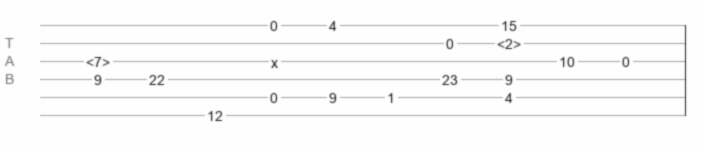0: (270, 18, 278, 28), (270, 90, 278, 100), (446, 36, 454, 46), (622, 54, 630, 64)
1: (387, 90, 395, 100)
10: (559, 54, 575, 64)
12: (207, 108, 223, 118)
15: (501, 18, 517, 28)
22: (149, 72, 165, 82)
23: (442, 72, 458, 82)
4: (329, 18, 337, 28), (505, 90, 513, 100)
9: (94, 72, 102, 82), (329, 90, 337, 100), (505, 72, 513, 82)
harmonic: (86, 54, 110, 64), (497, 36, 521, 46)
x: (271, 55, 278, 63)
